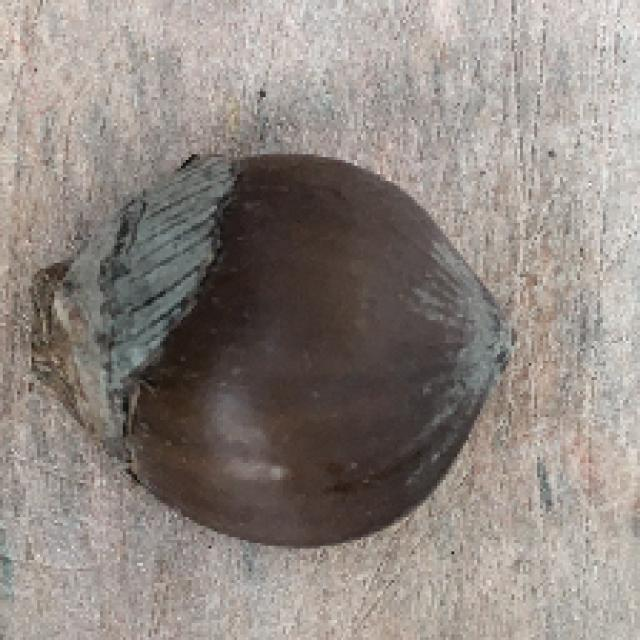damagedHazelnut: (18, 152, 522, 554)
